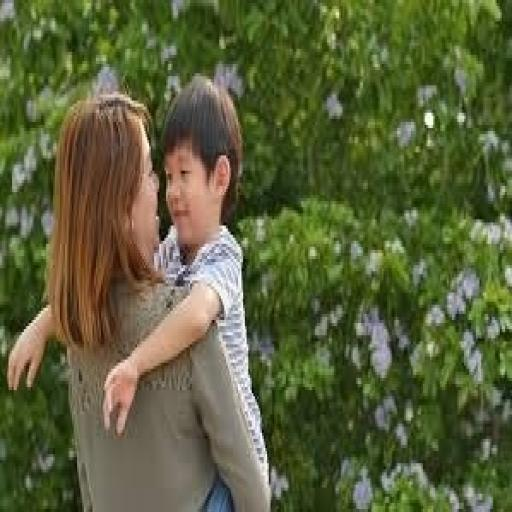hugging: (7, 76, 272, 509)
